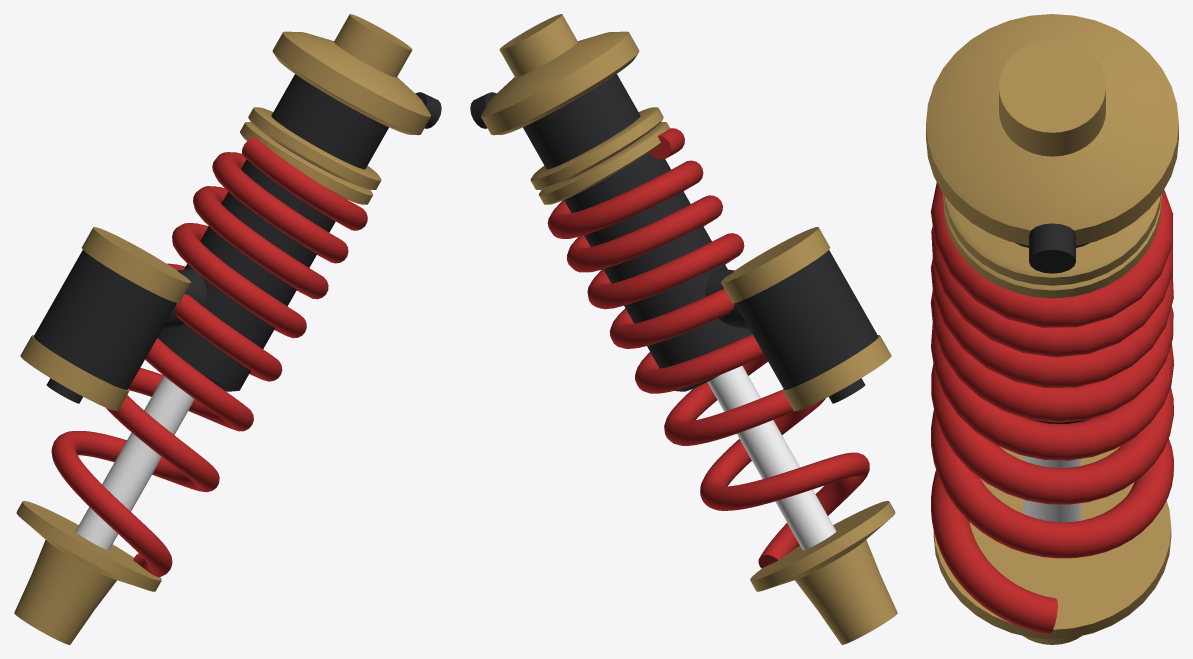
File: piggyback.glb
3 views of the same model, side by side, from view 1: azimuth 30°, elevation 25°; view 2: azimuth 150°, elevation 25°; view 3: azimuth 270°, elevation 25° (orthographic). The views are drawn at different scales.
Visible parts, largest first — view 1: shock_piggyback; view 2: shock_piggyback; view 3: shock_piggyback.
Boxes of the visible parts, x1,y1,x2,y2 form: shock_piggyback: [14, 14, 441, 644]; shock_piggyback: [470, 14, 897, 644]; shock_piggyback: [926, 14, 1178, 644].
Bounding box in the file's own units: 0.2285 × 0.2861 × 0.0805.
